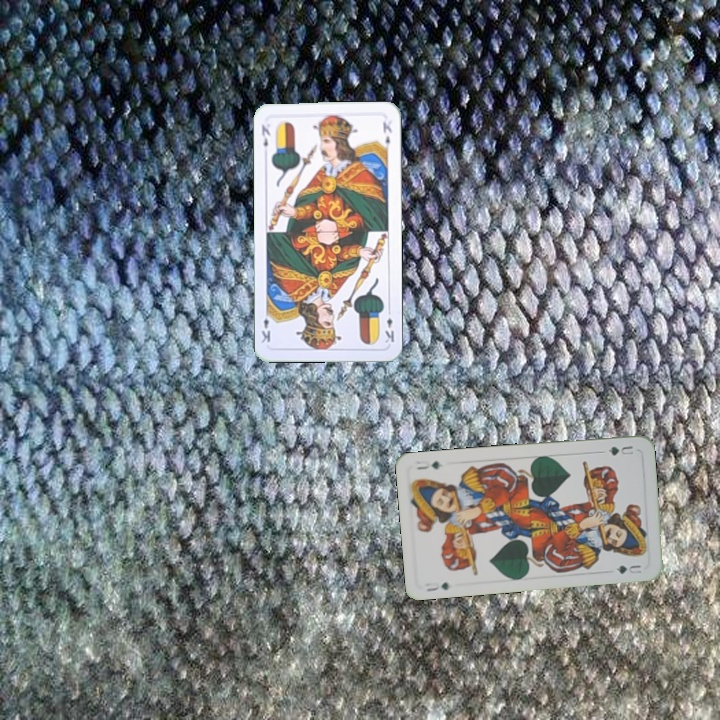EK: (381, 305, 397, 345), (257, 121, 273, 149)
GU: (604, 442, 637, 458), (422, 578, 451, 594)
